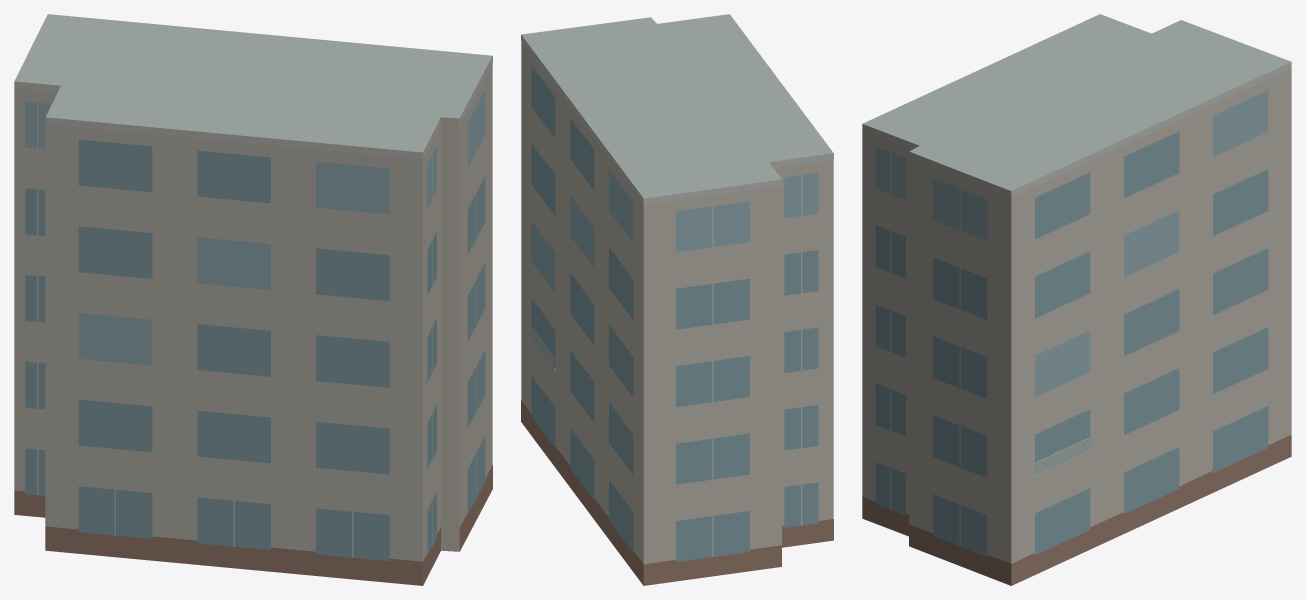
Rendered from survey-upis-32936061.glb.
3 views of the same model, side by side, from view 1: azimuth 30°, elevation 25°; view 2: azimuth 150°, elevation 25°; view 3: azimuth 270°, elevation 25° (orthographic). The views are drawn at different scales.
Parts seen in each view (by area): view 1: survey-upis-32936061.tmp; view 2: survey-upis-32936061.tmp; view 3: survey-upis-32936061.tmp.
Part boxes in pixels (left/top/right/bottom): survey-upis-32936061.tmp: left=14, top=14, right=492, bottom=585; survey-upis-32936061.tmp: left=521, top=14, right=833, bottom=585; survey-upis-32936061.tmp: left=862, top=14, right=1291, bottom=585.
Bounding box in the file's own units: 14.83 × 15.4 × 15.19.
